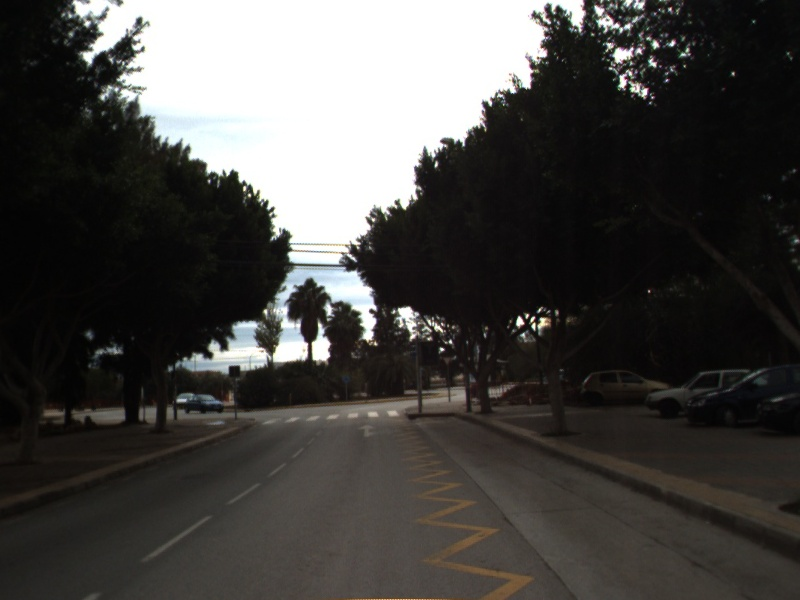STRAIGHT_RIGHT: (356, 423, 395, 439)
